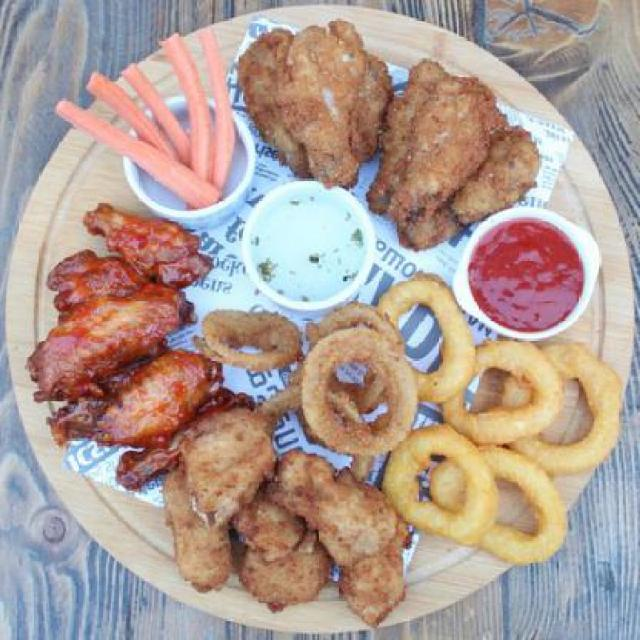chicken wings: (220, 15, 562, 258), (28, 218, 223, 467), (151, 446, 414, 623)
onion rings: (397, 310, 621, 561), (200, 268, 451, 447)
